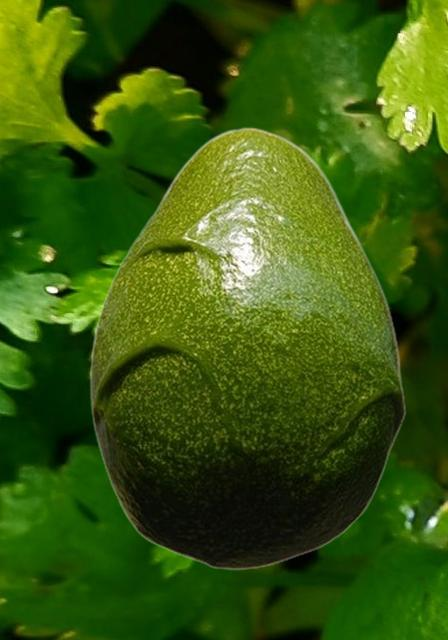avocado: (89, 126, 405, 569)
